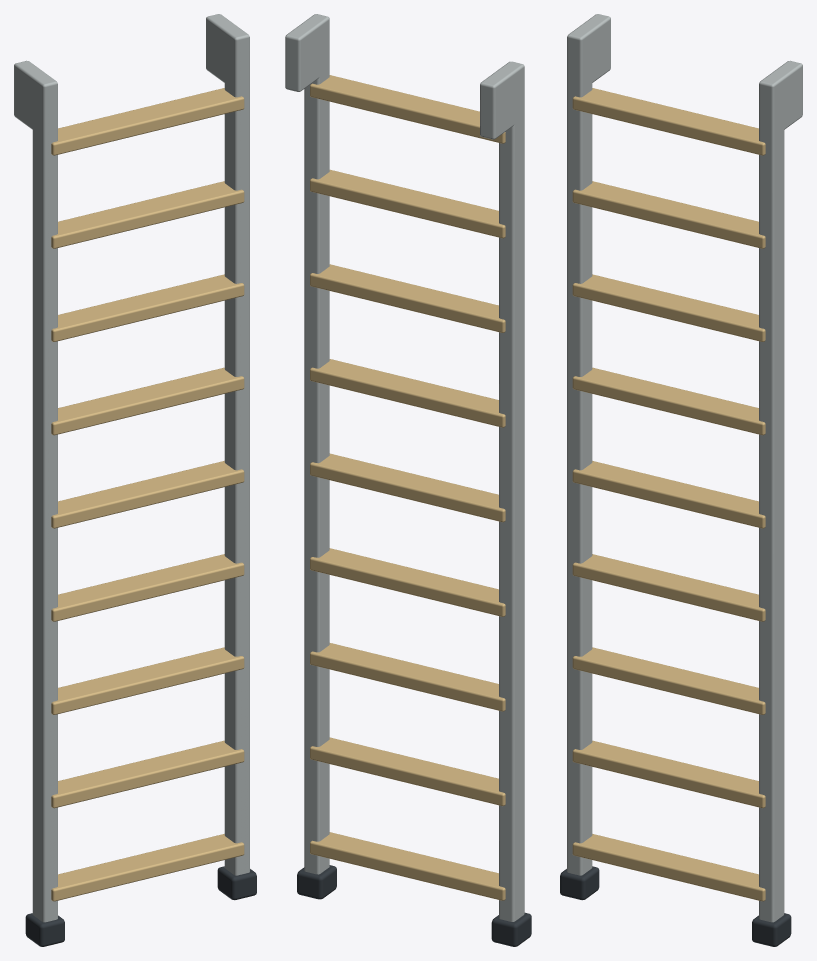
Rendered from abandoned-cinema-and-projection-booth-abandoned-cinema-5001f5b1__29734.glb.
3 views of the same model, side by side, from view 1: azimuth 30°, elevation 25°; view 2: azimuth 150°, elevation 25°; view 3: azimuth 330°, elevation 25° (orthographic).
Parts seen in each view (by area): view 1: abandoned-cinema-and-projection-booth-maintenance-ladder; view 2: abandoned-cinema-and-projection-booth-maintenance-ladder; view 3: abandoned-cinema-and-projection-booth-maintenance-ladder.
Boxes of the visible parts, x1,y1,x2,y2 form: abandoned-cinema-and-projection-booth-maintenance-ladder: (14, 14, 256, 946); abandoned-cinema-and-projection-booth-maintenance-ladder: (285, 14, 531, 946); abandoned-cinema-and-projection-booth-maintenance-ladder: (560, 14, 802, 946).
Size of the model in its own units: 0.635 by 2.4 by 0.1675.
